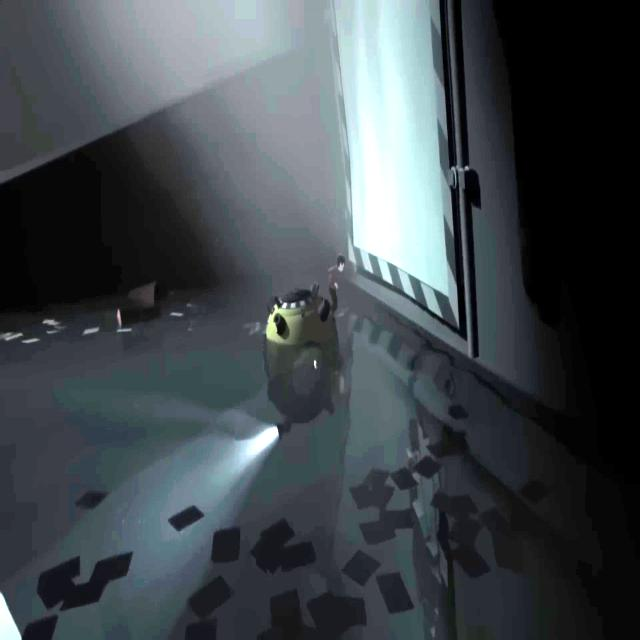boy: (328, 254, 344, 312)
submarine: (264, 282, 340, 444)
